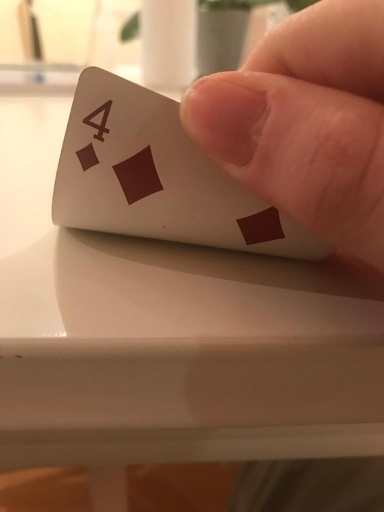D4: (76, 94, 114, 176)
